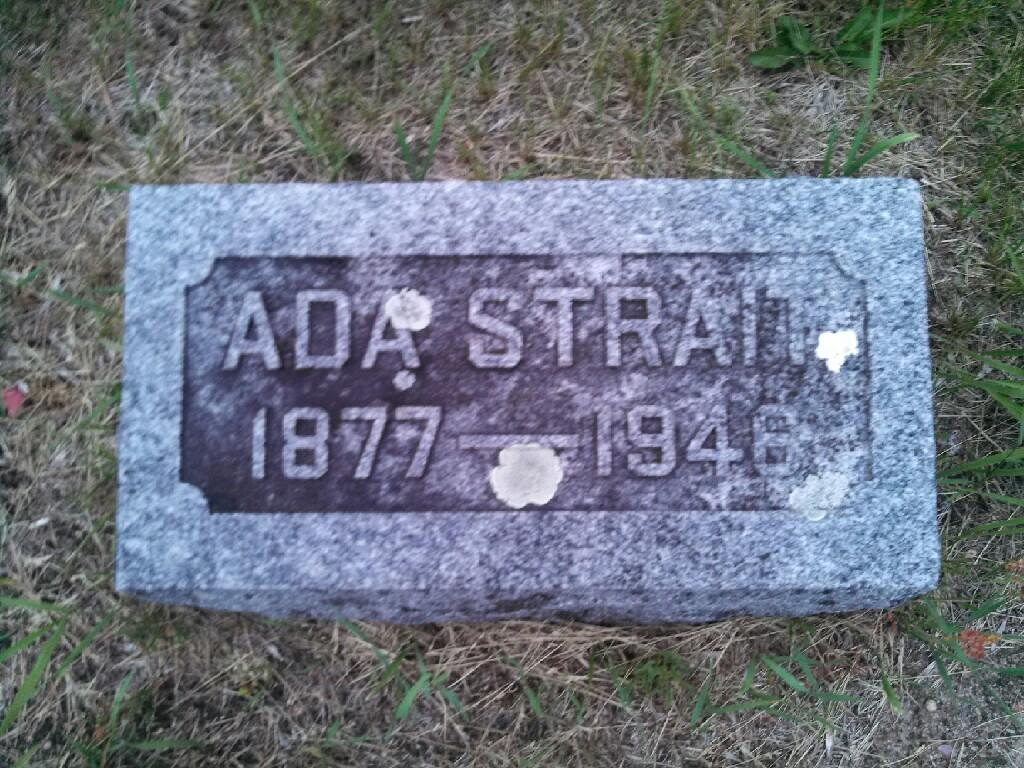flat: (83, 154, 960, 632)
